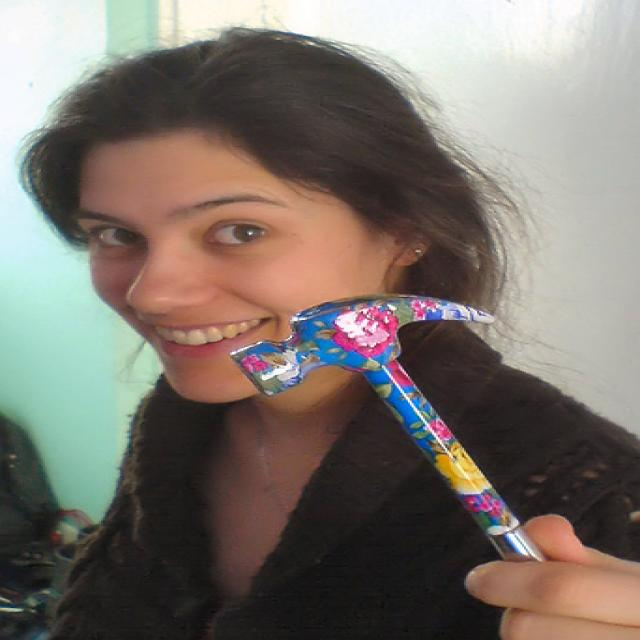hammer: (238, 285, 610, 541)
